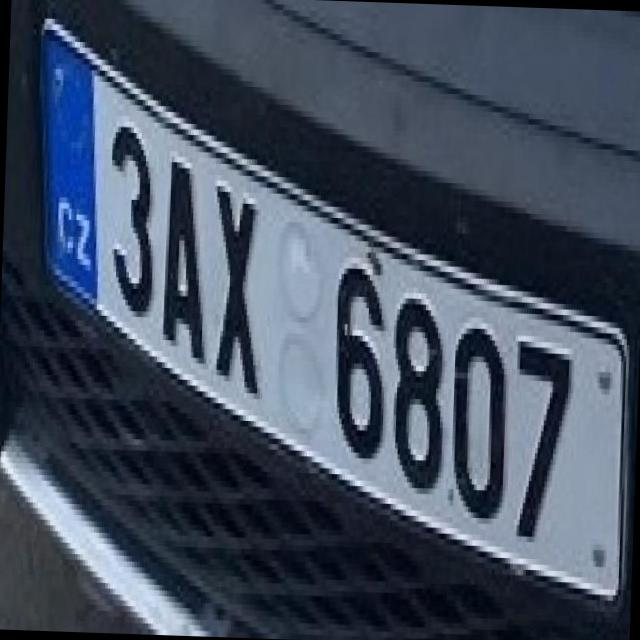0: (436, 300, 517, 518)
3: (90, 98, 163, 317)
6: (314, 244, 391, 458)
7: (500, 318, 580, 532)
8: (376, 281, 452, 488)
A: (144, 138, 214, 364)
X: (196, 163, 272, 388)
